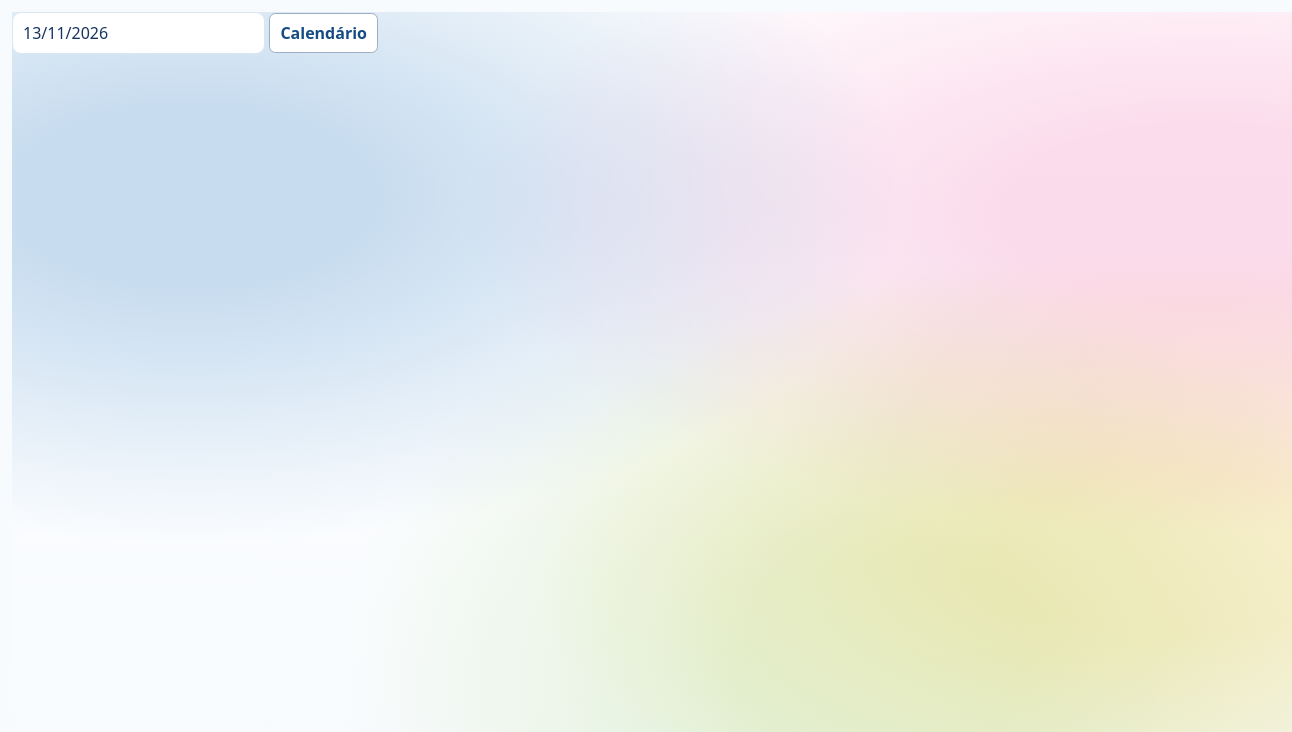
Test: Calendário CAPO brasileiro › emite ISO ao selecionar data e mantém os limites da agenda
This screenshot has width=1292, height=732.
Later steps or results of the test are not shown.
Step 1. Click the button with aria-label "Abrir calendário brasileiro" → (324, 33), box [269,13,378,53]
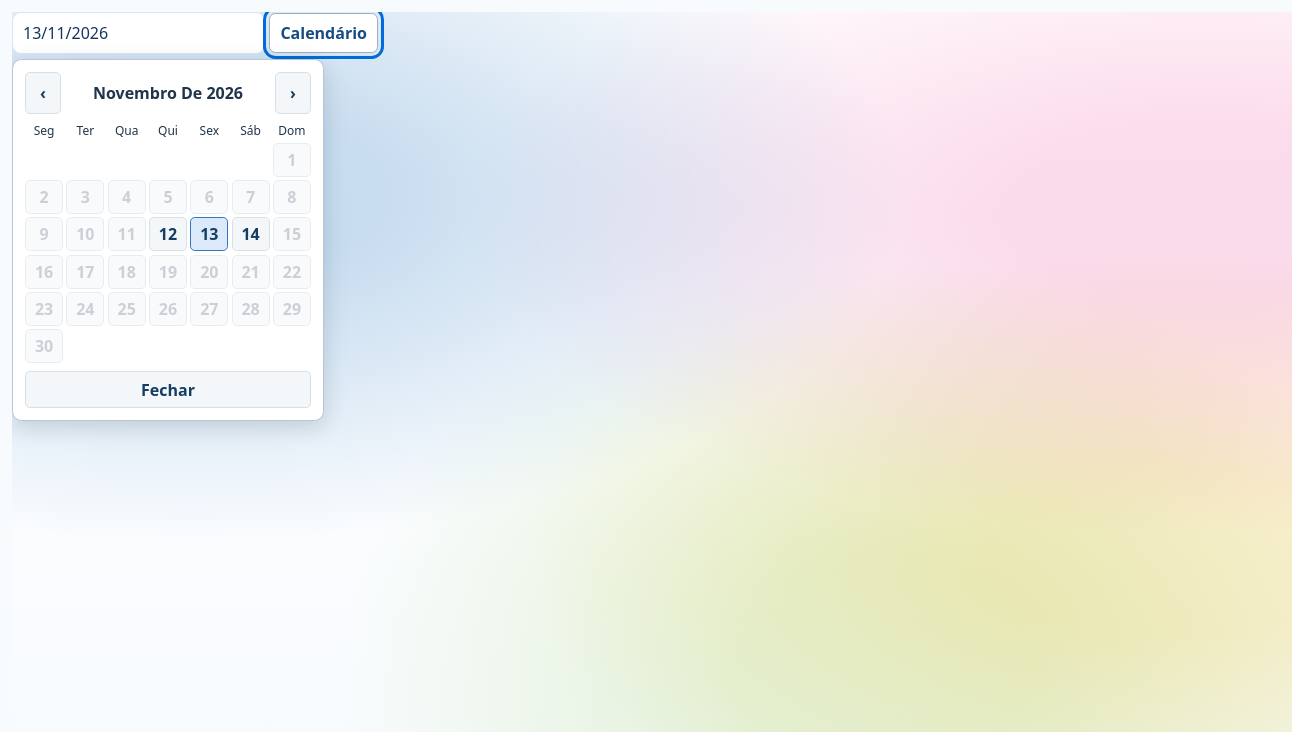
Expected: the button named "11/11/2026" is disabled, [108,217,146,251]
